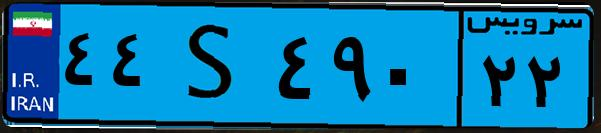0: (385, 28, 445, 110)
2: (475, 38, 525, 113), (525, 38, 570, 115)
4: (270, 28, 330, 110), (57, 26, 110, 100), (110, 28, 158, 98)
9: (330, 28, 385, 110)
S: (158, 12, 270, 120)
